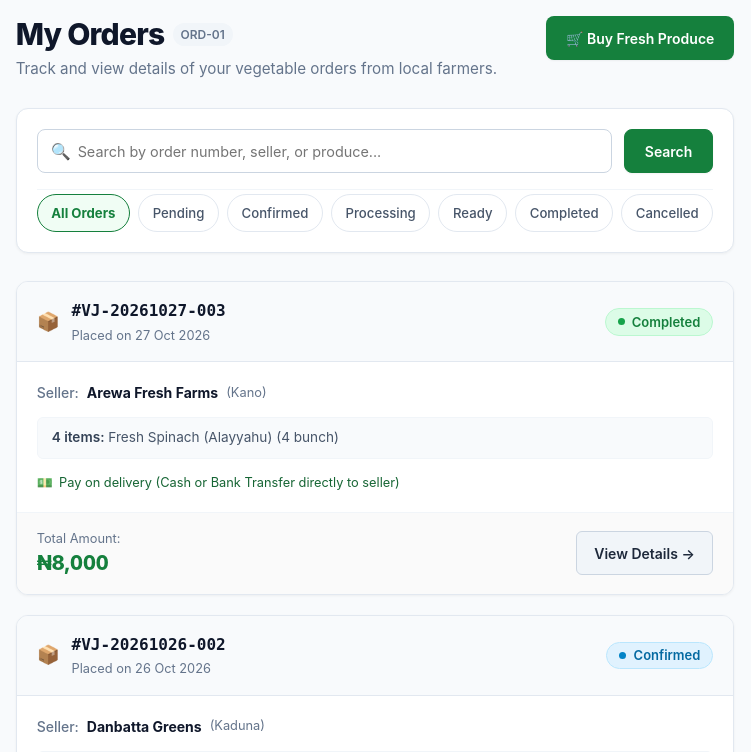
Scenario: FE-077 / ORD-01: My Orders List Page › 4. Search Functionality (Figma Section 12) › clears search input when clear (✕) button is clicked
In the field with test id "my-orders-search-input": [324, 151] box [37,129,612,173], type "Peppers"
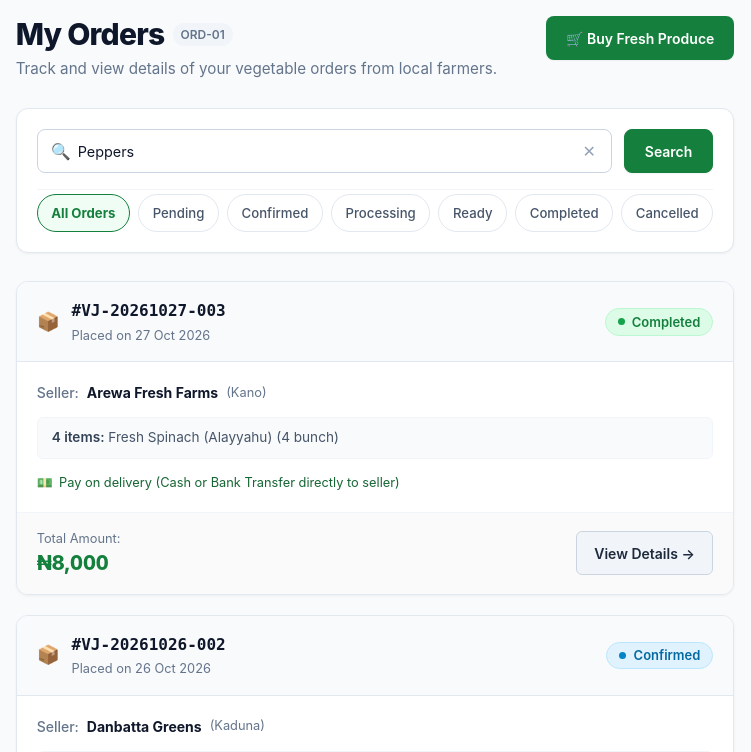
Click the button named "clear search input": [589, 151] box [578,137,600,165]
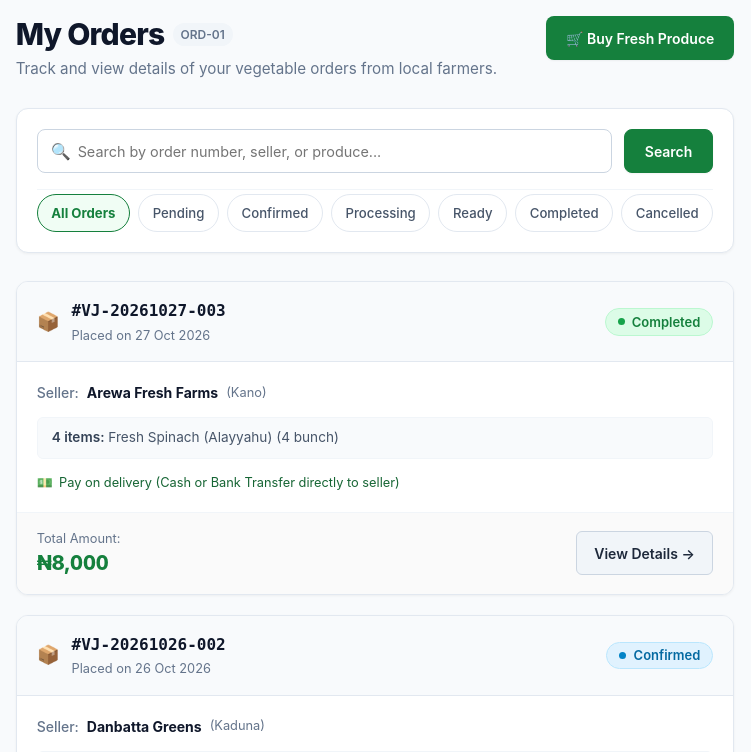
Now the field with test id "my-orders-search-input" is empty, box [37,129,612,173]
